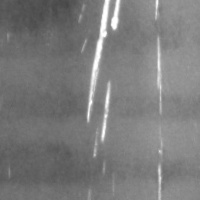scratches: (75, 0, 128, 129), (147, 0, 168, 199), (88, 76, 120, 157)
